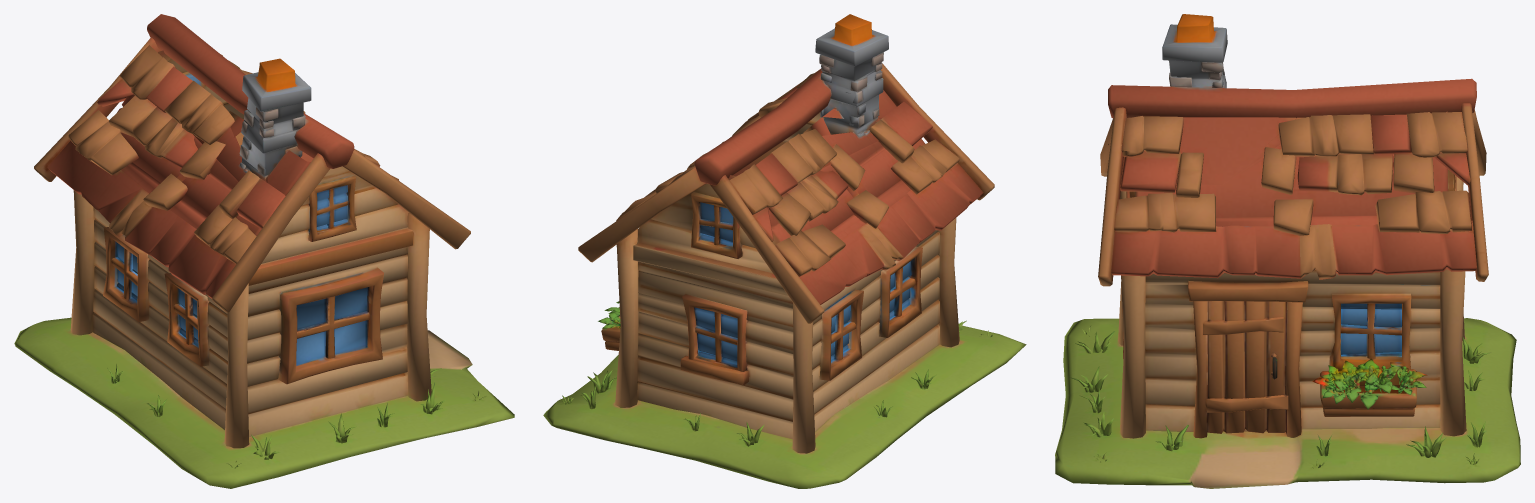
The model's file is 4a4dd059-0cd7-45b5-aee5-3807b58fdb89_model.glb.
The picture shows the model from 3 angles, left to right: view 1: azimuth 30°, elevation 25°; view 2: azimuth 150°, elevation 25°; view 3: azimuth 270°, elevation 25°; orthographic projection. The views are drawn at different scales.
Visible parts, largest first — view 1: tripo_node_4a4dd059-0cd7-45b5-aee5-3807b58fdb89; view 2: tripo_node_4a4dd059-0cd7-45b5-aee5-3807b58fdb89; view 3: tripo_node_4a4dd059-0cd7-45b5-aee5-3807b58fdb89.
Boxes of the visible parts, <box> form: tripo_node_4a4dd059-0cd7-45b5-aee5-3807b58fdb89: <box>14,14,514,488</box>; tripo_node_4a4dd059-0cd7-45b5-aee5-3807b58fdb89: <box>543,14,1026,488</box>; tripo_node_4a4dd059-0cd7-45b5-aee5-3807b58fdb89: <box>1055,14,1520,488</box>.
Size of the model in its own units: 1.94 by 2 by 2.27.
1 material, 1 textured.
